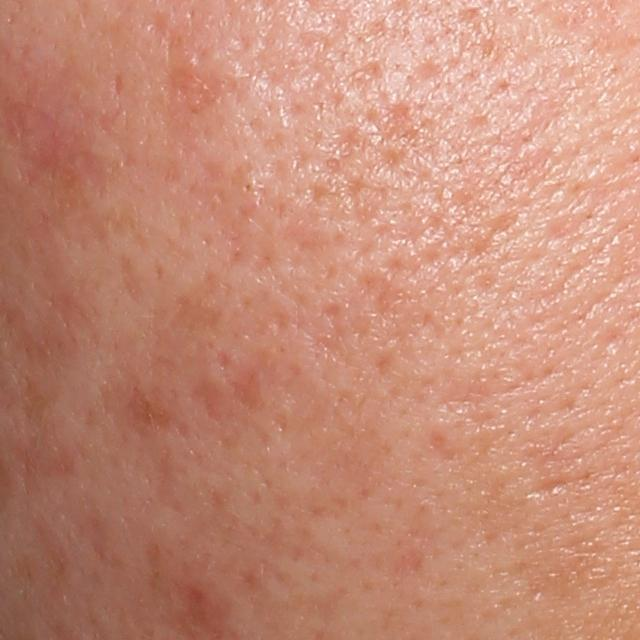atrophic_scar: (168, 268, 229, 345), (213, 348, 278, 416), (181, 367, 232, 434), (118, 248, 146, 314), (526, 478, 576, 502), (111, 69, 128, 100)
